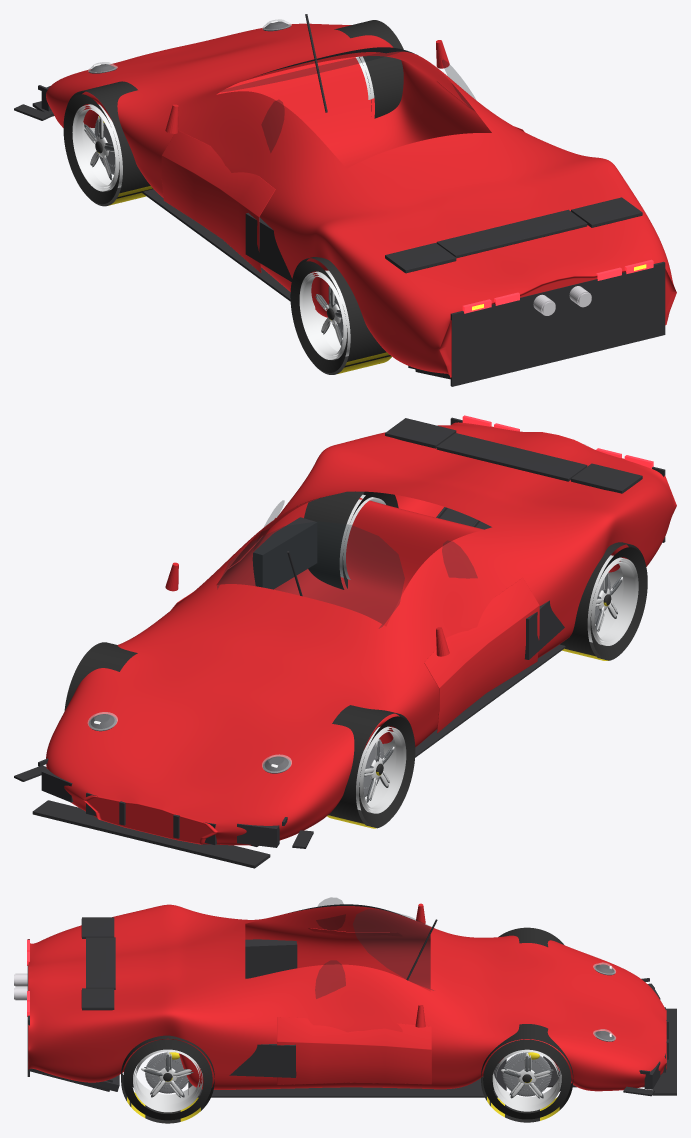
Rendered from vehicle.glb.
The picture shows the model from 3 angles, top to bottom: view 1: azimuth 30°, elevation 25°; view 2: azimuth 150°, elevation 25°; view 3: azimuth 270°, elevation 25°; orthographic projection. The views are drawn at different scales.
Visible parts, largest first — view 1: BODY_MainShell, AERO_RearValence, BODY_Door_FL, WHEEL_FL, WHEEL_RL, AERO_ActiveRearWing, WHEEL_FR, GLASS_CockpitWindshield, UNDERBODY_FlatFloor, AERO_SideIntakes, LIGHTING_Taillamps, JEWELRY_HighCenterExhaust (+1 smaller); view 2: BODY_MainShell, GLASS_CockpitWindshield, BODY_Door_FL, WHEEL_FL, WHEEL_RL, AERO_ActiveRearWing, AERO_SideIntakes, WHEEL_RR, AERO_FrontSplitter, AERO_FrontIntakes, UNDERBODY_FlatFloor, WHEEL_FR (+2 smaller); view 3: BODY_MainShell, BODY_Door_FR, WHEEL_FR, WHEEL_RR, GLASS_CockpitWindshield, UNDERBODY_FlatFloor, AERO_SideIntakes, AERO_ActiveRearWing, AERO_FrontSplitter, WHEEL_FL, AERO_FrontIntakes, LIGHTING_HeadlampCovers (+2 smaller).
Boxes of the visible parts, box(x1,y1,x2,y2) form: BODY_MainShell: box(46, 23, 676, 377); AERO_RearValence: box(450, 261, 665, 386); BODY_Door_FL: box(161, 130, 275, 272); WHEEL_FL: box(63, 81, 153, 206); WHEEL_RL: box(290, 257, 391, 374); AERO_ActiveRearWing: box(385, 197, 642, 273); WHEEL_FR: box(334, 20, 403, 118); GLASS_CockpitWindshield: box(221, 50, 475, 152); UNDERBODY_FlatFloor: box(142, 189, 450, 379); AERO_SideIntakes: box(245, 213, 292, 281); LIGHTING_Taillamps: box(462, 259, 653, 313); JEWELRY_HighCenterExhaust: box(533, 286, 591, 315); BODY_MainShell: box(46, 422, 676, 845); GLASS_CockpitWindshield: box(217, 500, 477, 628); BODY_Door_FL: box(424, 578, 539, 733); WHEEL_FL: box(327, 705, 415, 828); WHEEL_RL: box(560, 542, 647, 660); AERO_ActiveRearWing: box(385, 418, 642, 493); AERO_SideIntakes: box(252, 517, 564, 659); WHEEL_RR: box(304, 491, 398, 589); AERO_FrontSplitter: box(32, 800, 270, 868); AERO_FrontIntakes: box(38, 758, 287, 847); UNDERBODY_FlatFloor: box(250, 507, 565, 846); WHEEL_FR: box(64, 642, 137, 711); BODY_MainShell: box(28, 904, 666, 1091); BODY_Door_FR: box(277, 1017, 431, 1084); WHEEL_FR: box(481, 1024, 573, 1122); WHEEL_RR: box(121, 1035, 214, 1123); GLASS_CockpitWindshield: box(315, 897, 433, 998); UNDERBODY_FlatFloor: box(30, 1056, 644, 1097); AERO_SideIntakes: box(229, 939, 297, 1077); AERO_ActiveRearWing: box(81, 917, 115, 1010); AERO_FrontSplitter: box(652, 1008, 676, 1095); WHEEL_FL: box(498, 927, 563, 947); AERO_FrontIntakes: box(639, 978, 668, 1089); LIGHTING_HeadlampCovers: box(593, 962, 615, 1041).
Size of what is drawn, in the model's own units: 2 by 1.23 by 4.89.
